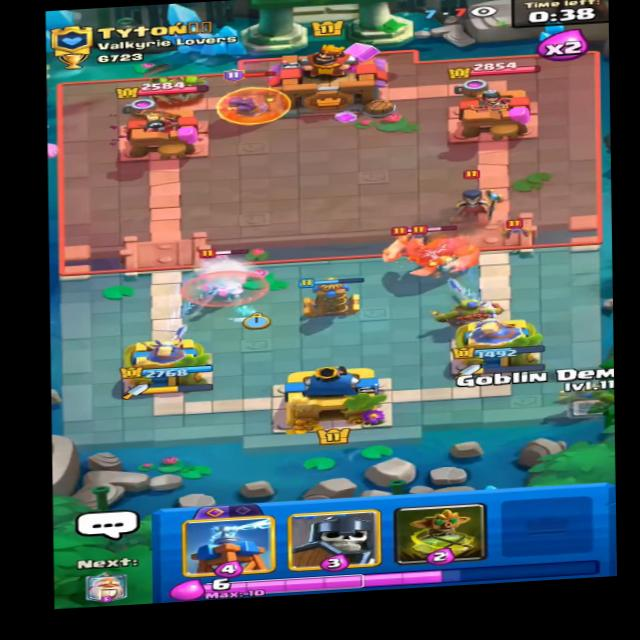bats: (495, 217, 544, 239), (405, 227, 451, 248)
evo-wizard: (214, 69, 292, 128)
giant: (379, 222, 487, 276)
night-witch: (450, 165, 502, 224)
prince: (190, 239, 253, 306)
